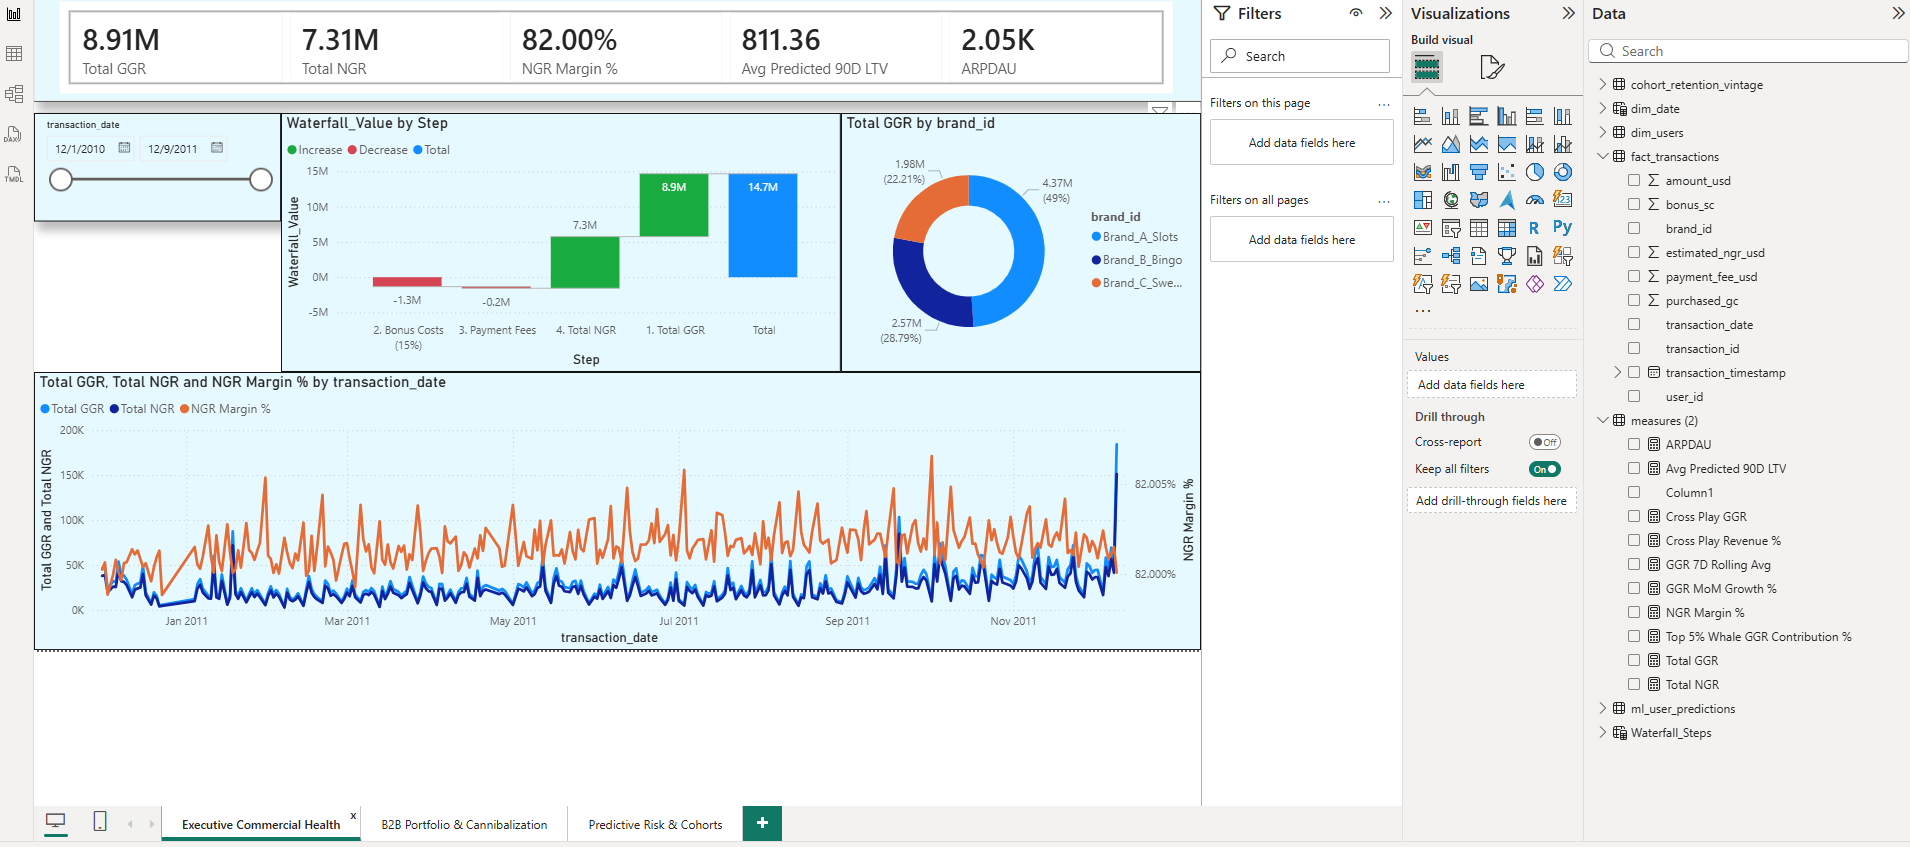

The dashboard page shown, as its layout file describes it:
{"tool":"powerbi","page":{"name":"Executive Commercial Health","canvas":[1280,720],"ordinal":0},"visuals":[{"type":"cardVisual","fields":{"Data":["measures (2).Total GGR","measures (2).Total NGR","measures (2).NGR Margin %","measures (2).Avg Predicted 90D LTV","measures (2).ARPDAU"]},"box":[0,0,1280.3,117.6],"z":0},{"type":"lineChart","fields":{"Category":["fact_transactions.transaction_date"],"Y":["measures (2).Total GGR","measures (2).Total NGR"],"Y2":["measures (2).NGR Margin %"]},"box":[0,414.8,1280.3,305.4],"z":1000},{"type":"slicer","fields":{"Values":["fact_transactions.transaction_date"]},"box":[0,130.6,271.1,119.2],"z":2000},{"type":"donutChart","fields":{"Category":["fact_transactions.brand_id"],"Y":["measures (2).Total GGR"]},"box":[885.1,130.6,395.2,284.2],"z":3000},{"type":"waterfallChart","fields":{"Category":["Waterfall_Steps.Step"],"Y":["Waterfall_Steps.Waterfall_Value"]},"box":[271.1,130.6,614,284.2],"z":4000}]}

Visuals, with their boxes on the page's 1280x720 design canvas (x1, y1, x2, y2). These are canvas units, not pixel positions in the 1910x847 screenshot, which may show the page scaled, cropped or inside an application window:
cardVisual - measures (2).Total GGR x measures (2).Total NGR: box=[0, 0, 1280, 118]
lineChart - fact_transactions.transaction_date x measures (2).Total GGR: box=[0, 415, 1280, 720]
slicer - fact_transactions.transaction_date: box=[0, 131, 271, 250]
donutChart - fact_transactions.brand_id x measures (2).Total GGR: box=[885, 131, 1280, 415]
waterfallChart - Waterfall_Steps.Step x Waterfall_Steps.Waterfall_Value: box=[271, 131, 885, 415]
